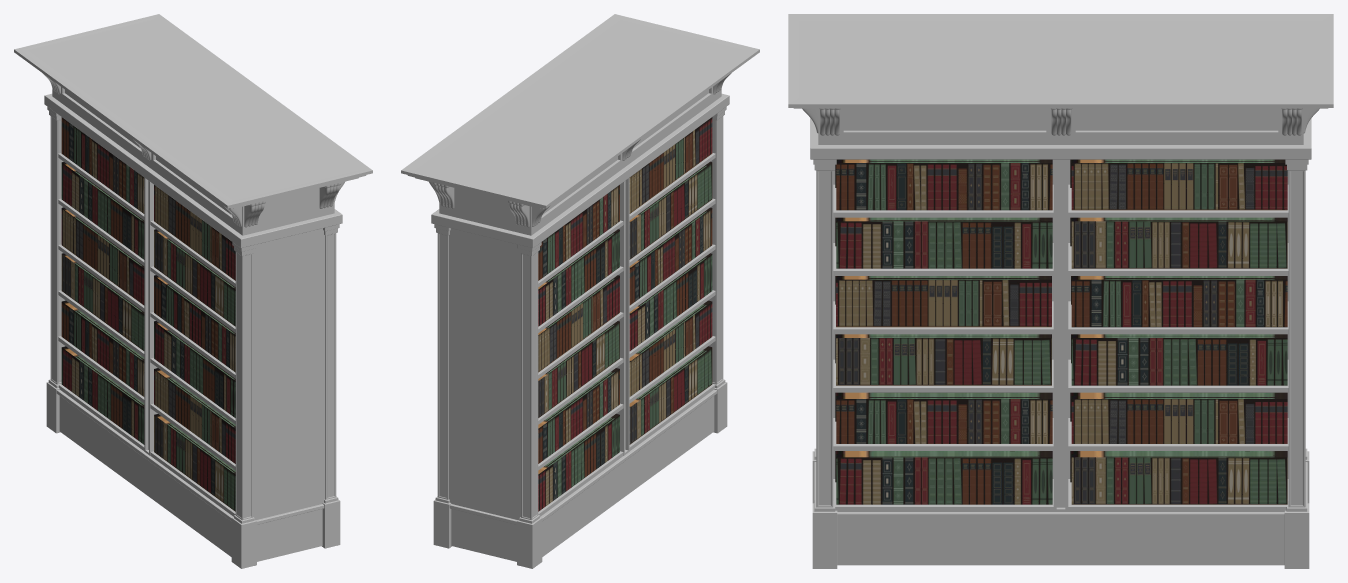
Rendered from Bookshelf.fbx.
The picture shows the model from 3 angles, left to right: view 1: azimuth 30°, elevation 25°; view 2: azimuth 150°, elevation 25°; view 3: azimuth 270°, elevation 25°; orthographic projection. The views are drawn at different scales.
Visible parts, largest first — view 1: Cube.053, Cube.087; view 2: Cube.053, Cube.087; view 3: Cube.053, Cube.008.
Boxes of the visible parts, x1=… form: Cube.053: x1=14, y1=14, x2=372, y2=568; Cube.087: x1=61, y1=117, x2=235, y2=511; Cube.053: x1=401, y1=14, x2=759, y2=568; Cube.087: x1=538, y1=117, x2=712, y2=511; Cube.053: x1=788, y1=14, x2=1333, y2=568; Cube.008: x1=836, y1=159, x2=1287, y2=504.
Bounding box in the file's own units: 152 × 376 × 387.
